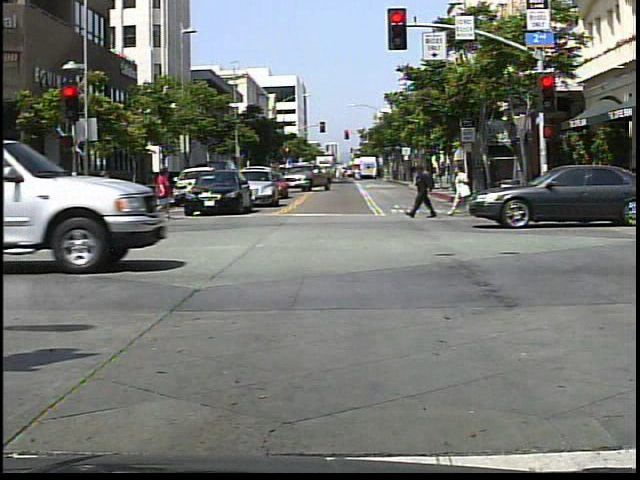person: (411, 158, 445, 222), (446, 159, 474, 221), (152, 165, 179, 222)
